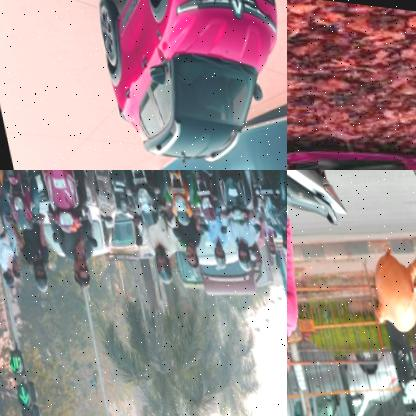bike: (287, 170, 363, 303), (25, 170, 94, 230), (110, 170, 166, 227), (145, 170, 199, 223), (203, 170, 259, 221), (180, 170, 225, 231), (245, 170, 287, 231), (0, 170, 42, 228)
car: (74, 0, 287, 170), (287, 94, 416, 170), (70, 170, 130, 261)
